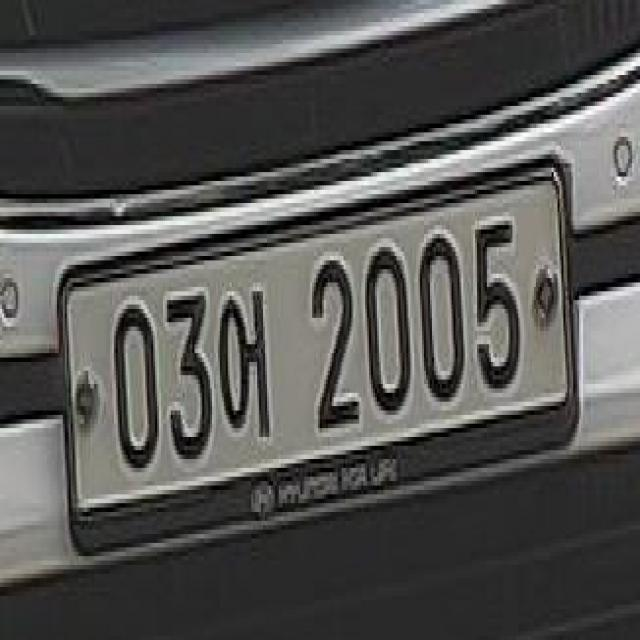illegal_plate: (56, 160, 580, 554)
